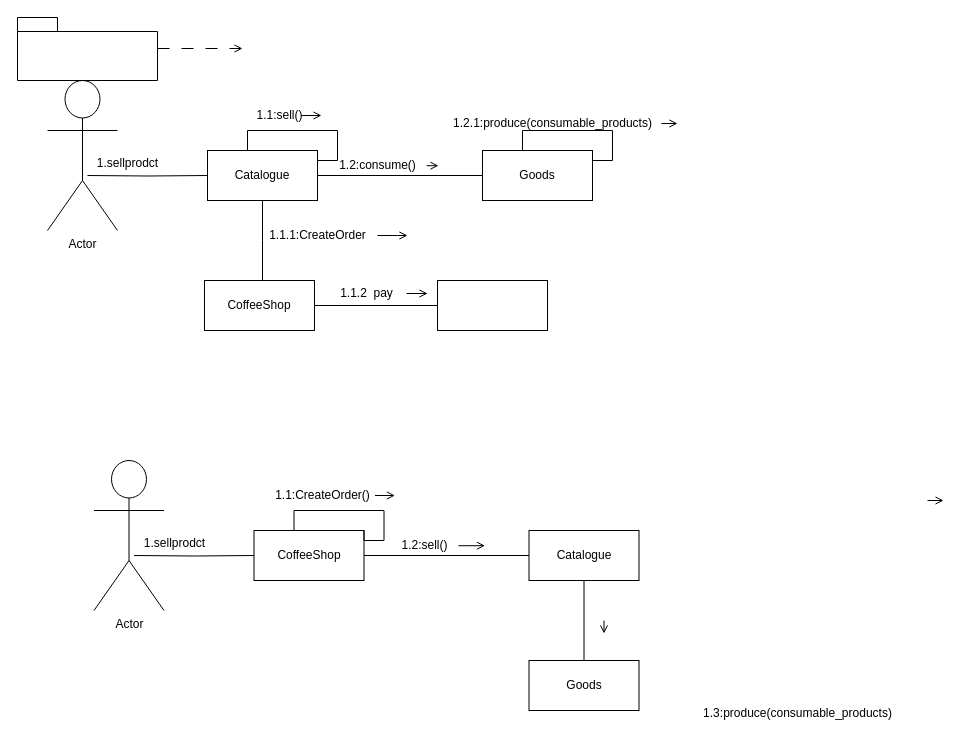
This 970x746 diagram has some shape labels left out. The centre of each missing label's shape, as x and y in pixels:
"Order" goes at point (492, 305).
"Planning Systems" goes at point (87, 48).
